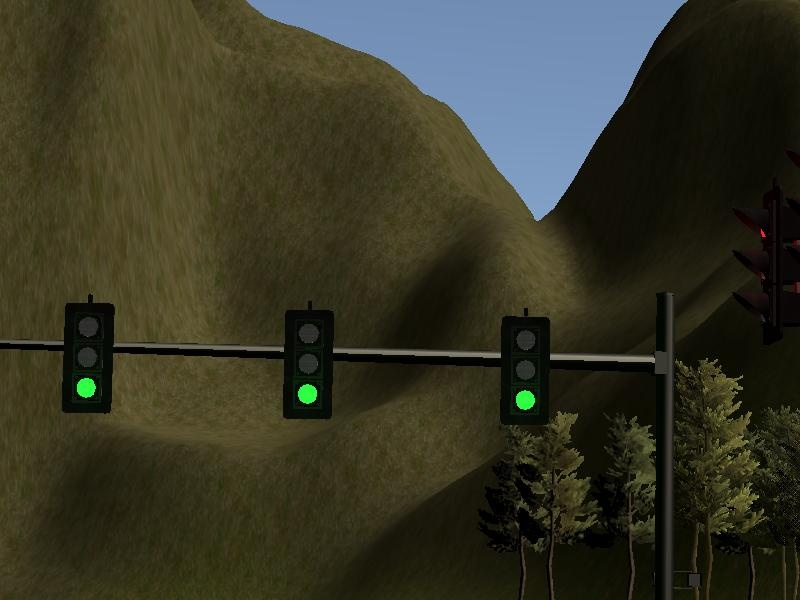GREEN: (63, 302, 115, 415), (285, 310, 332, 420), (502, 319, 550, 424)
